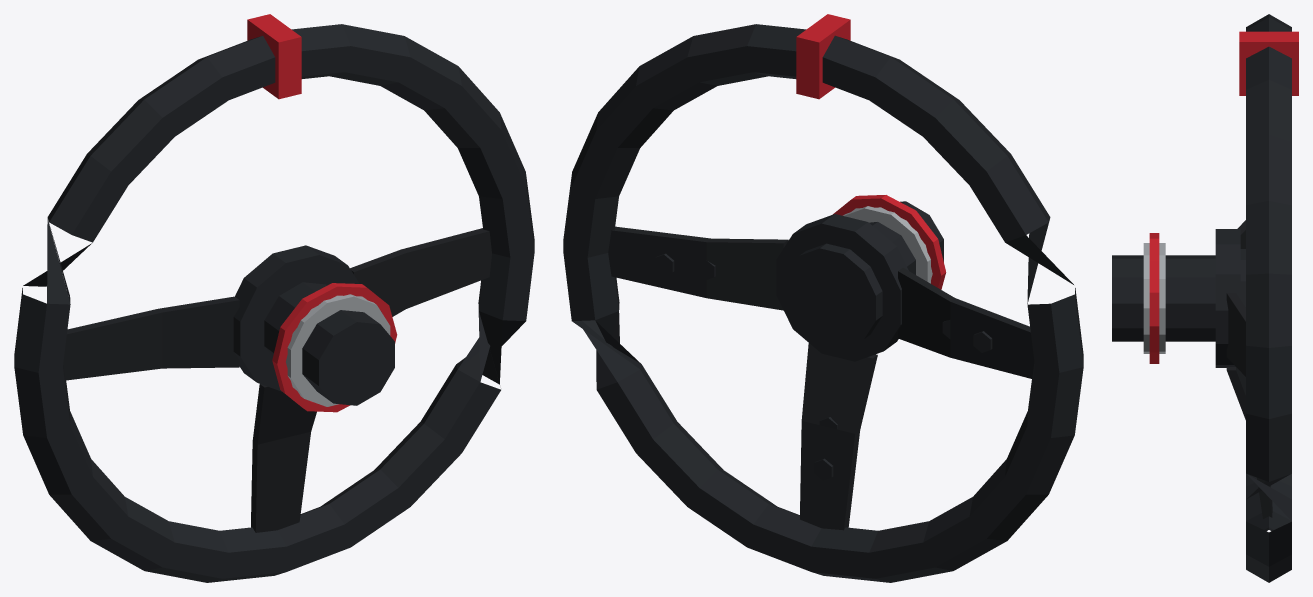
File: apex_v8.glb
3 views of the same model, side by side, from view 1: azimuth 30°, elevation 25°; view 2: azimuth 150°, elevation 25°; view 3: azimuth 270°, elevation 25° (orthographic). The views are drawn at different scales.
Parts seen in each view (by area): view 1: model; view 2: model; view 3: model.
Boxes of the visible parts, x1=… form: model: x1=14, y1=14, x2=534, y2=582; model: x1=563, y1=14, x2=1083, y2=582; model: x1=1112, y1=14, x2=1298, y2=582.
Bounding box in the file's own units: 0.364 × 0.366 × 0.119.
Materials: 3 (1 with a texture image).
